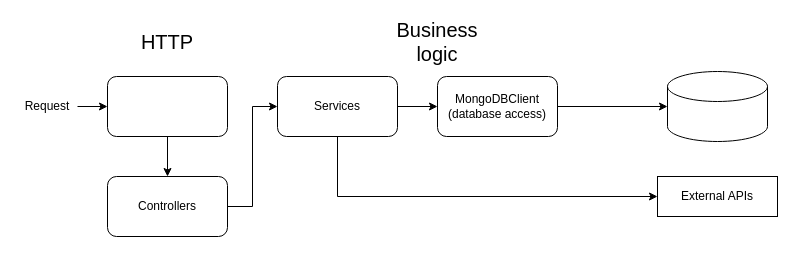
Some shapes in this 795 by 254 pixel diagram are drawn without their labels. The shapes that lost their labels are listed below. From the top down, each one's box as (x1, y1, x2, y2) in pixels, then its label:
(106, 76, 228, 136): MainRouter
(666, 70, 768, 142): MongoDB
